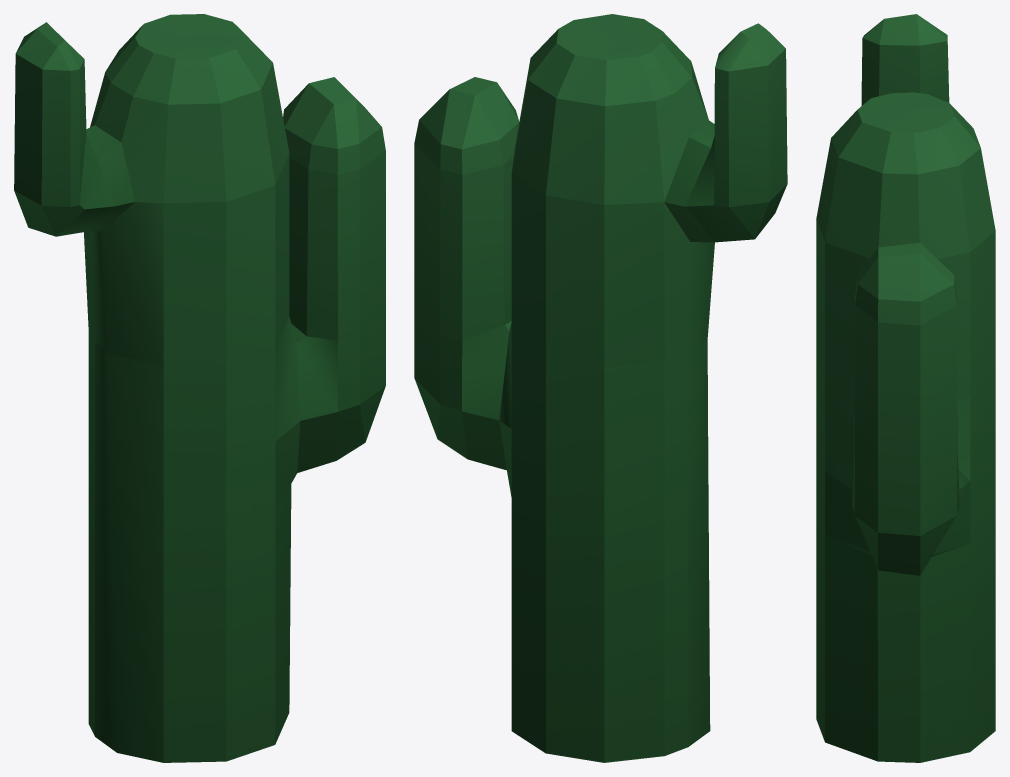
File: Cactus 2.fbx
3 views of the same model, side by side, from view 1: azimuth 30°, elevation 25°; view 2: azimuth 150°, elevation 25°; view 3: azimuth 270°, elevation 25° (orthographic). The views are drawn at different scales.
Parts seen in each view (by area): view 1: Cactus; view 2: Cactus; view 3: Cactus.
Boxes of the visible parts, x1,y1,x2,y2 form: Cactus: (14,14,385,762); Cactus: (414,14,787,762); Cactus: (816,14,995,762).
Bounding box in the file's own units: 7.99 × 15.62 × 3.9.
1 material, 1 textured.
